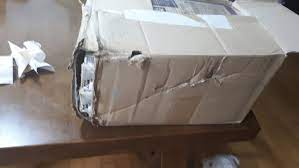damaged package: (76, 41, 103, 124), (188, 71, 240, 88), (127, 50, 142, 64)
